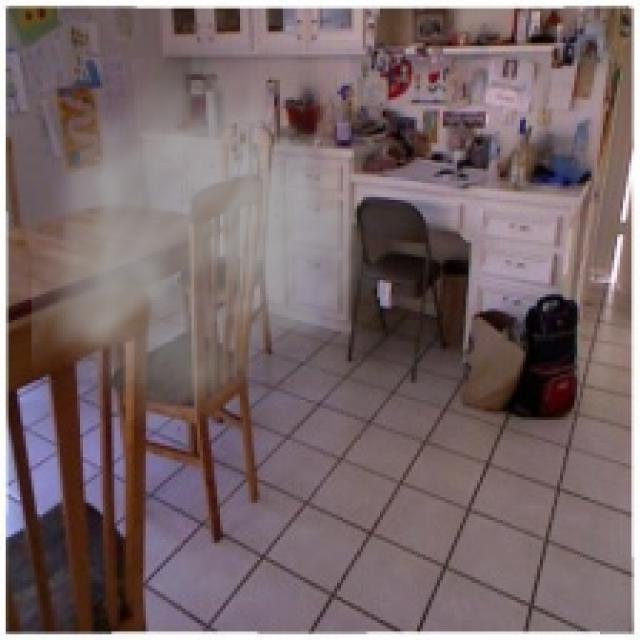smoke: (31, 43, 400, 440)
